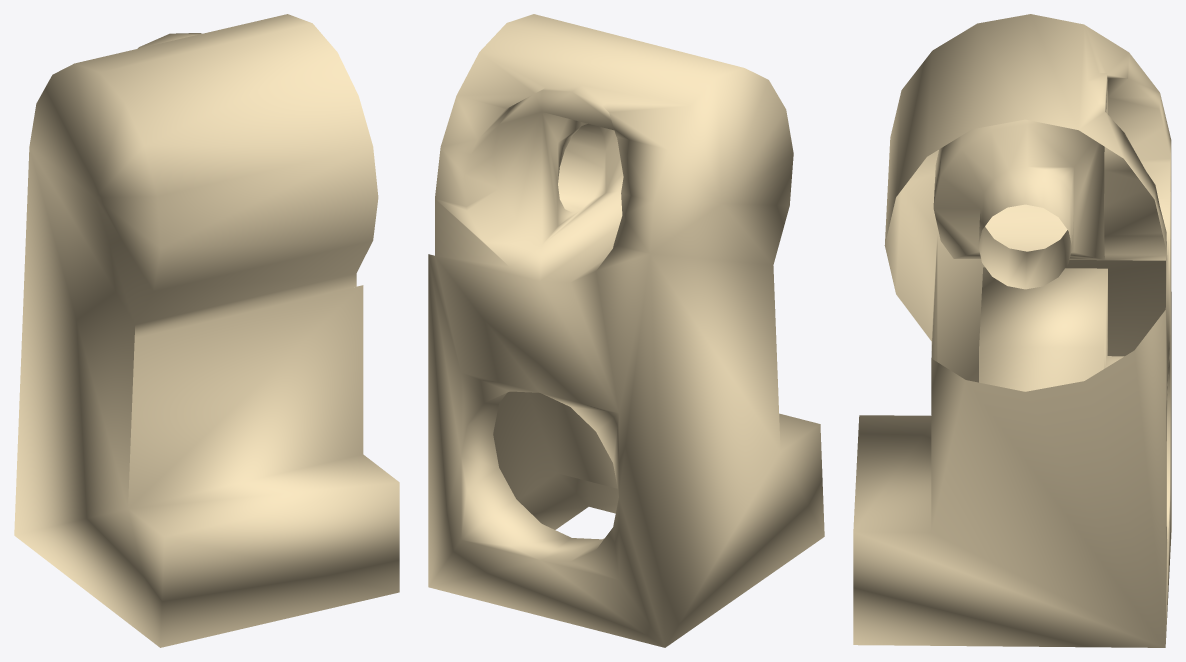
File: piernader.obj
3 views of the same model, side by side, from view 1: azimuth 30°, elevation 25°; view 2: azimuth 150°, elevation 25°; view 3: azimuth 270°, elevation 25° (orthographic). The views are drawn at different scales.
Visible parts, largest first — view 1: piernaDerHomero; view 2: piernaDerHomero; view 3: piernaDerHomero.
Boxes of the visible parts, box(x1,y1,x2,y2) form: piernaDerHomero: box(14, 14, 399, 647); piernaDerHomero: box(428, 14, 824, 647); piernaDerHomero: box(853, 14, 1171, 647).
Bounding box in the file's own units: 1.19 × 2.39 × 1.32.
Materials: 1 (1 with a texture image).
